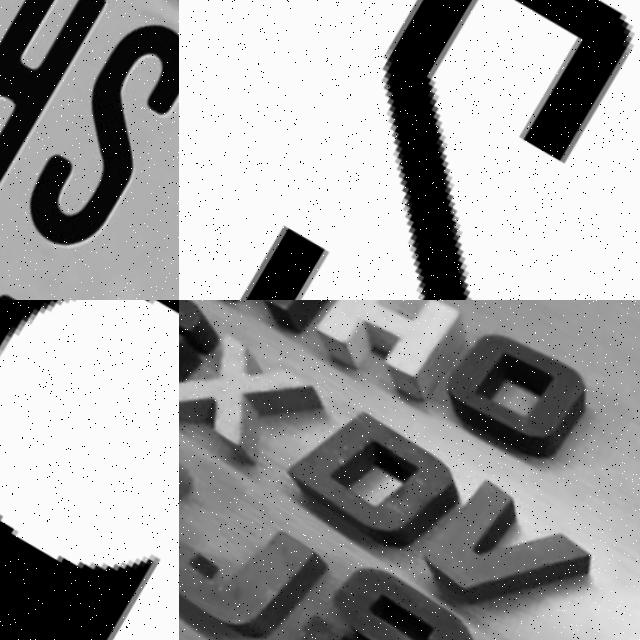C: (179, 389, 211, 565)
D: (282, 382, 494, 576)
G: (179, 300, 232, 403)
H: (0, 0, 114, 213), (303, 300, 480, 402)
J: (179, 458, 347, 640)
N: (183, 300, 370, 350)
O: (422, 300, 619, 478)
S: (193, 0, 640, 300), (15, 0, 179, 259), (294, 543, 509, 640)
V: (415, 459, 626, 640)
X: (179, 310, 342, 485)
